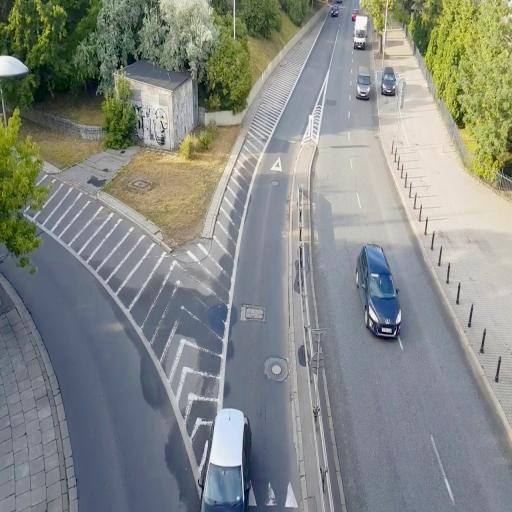vehicle: (200, 408, 250, 510), (356, 243, 402, 339), (352, 14, 372, 50), (380, 67, 398, 96), (356, 68, 371, 100)
